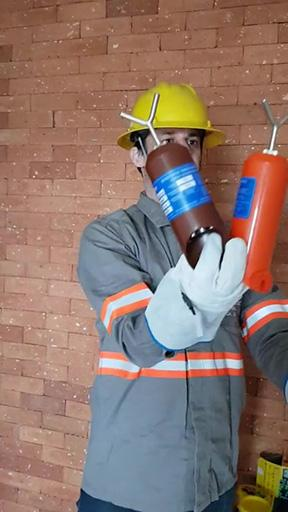Detector_Tensao_Contato: (118, 92, 223, 266), (229, 96, 288, 294)
